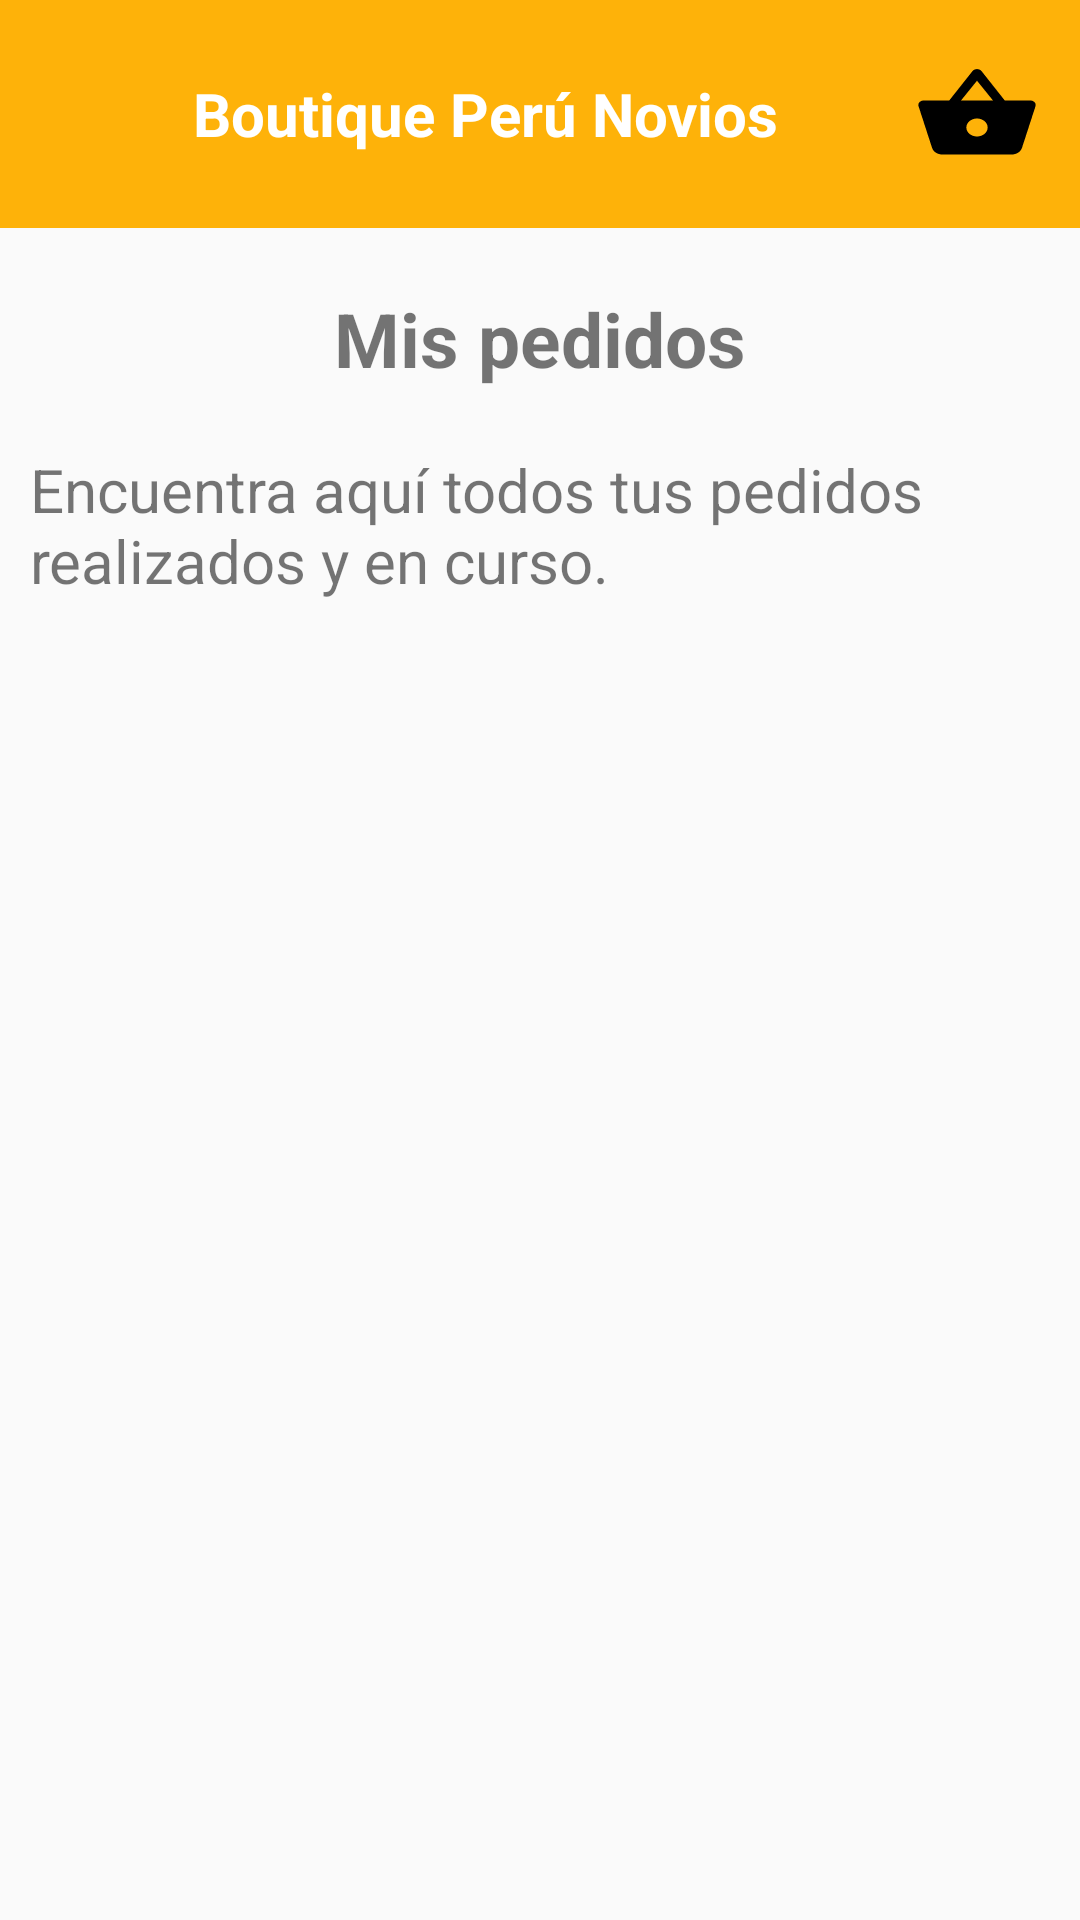

Where icons sit on this 1080px×1920px app screen, as (x1, y1, x2, y2):
shopping basket: (918, 69, 1036, 155)
